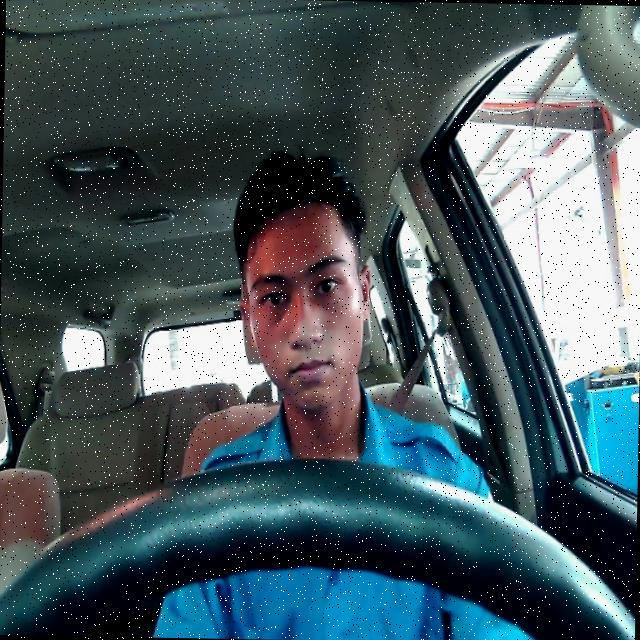focused: (236, 200, 370, 411)
